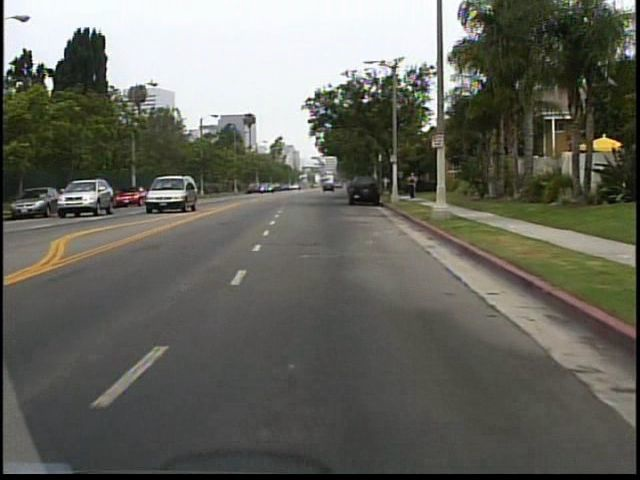person: (407, 169, 421, 201), (408, 173, 416, 202)
